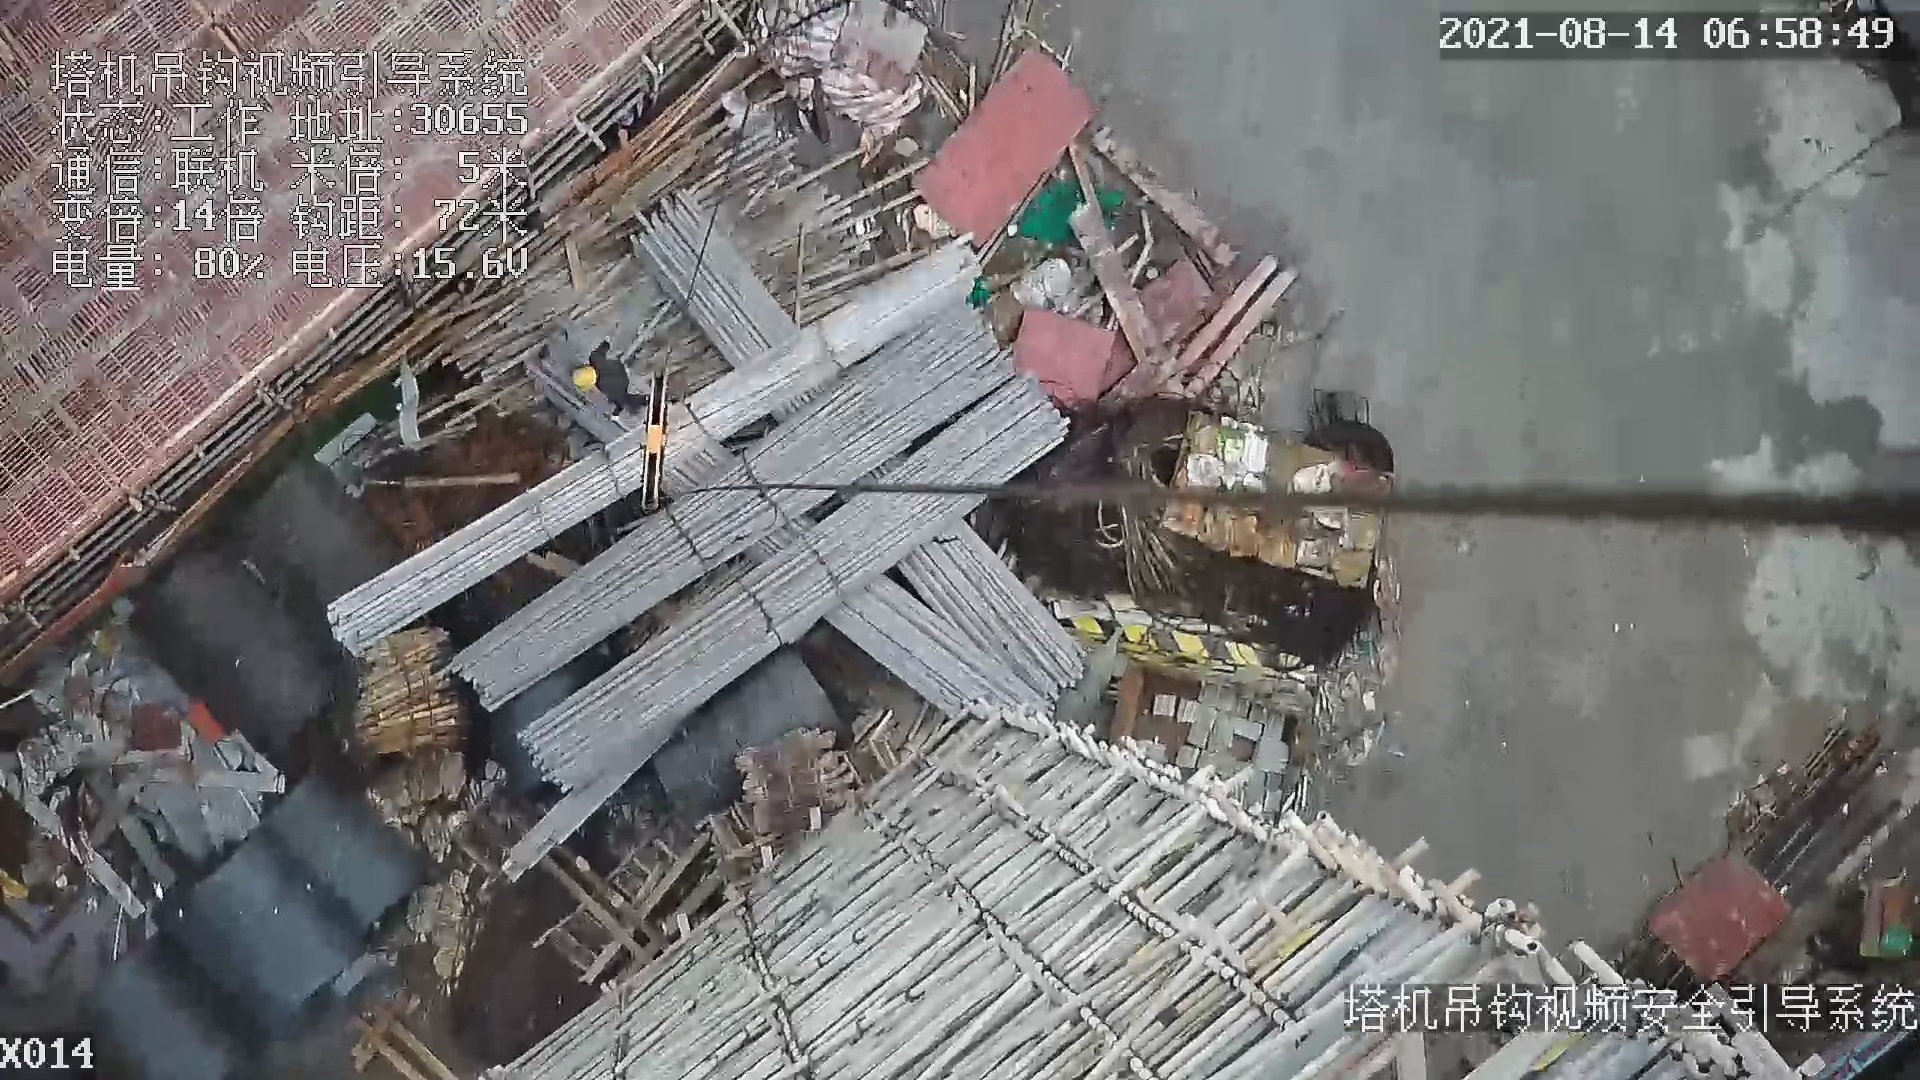helmet: (572, 366, 596, 389)
hook: (631, 368, 676, 512)
person: (562, 340, 653, 412)
rebar: (320, 245, 977, 653), (528, 383, 1071, 804), (458, 306, 1017, 712), (817, 573, 1058, 724), (915, 533, 1086, 687)
scaffold: (348, 626, 462, 750)
